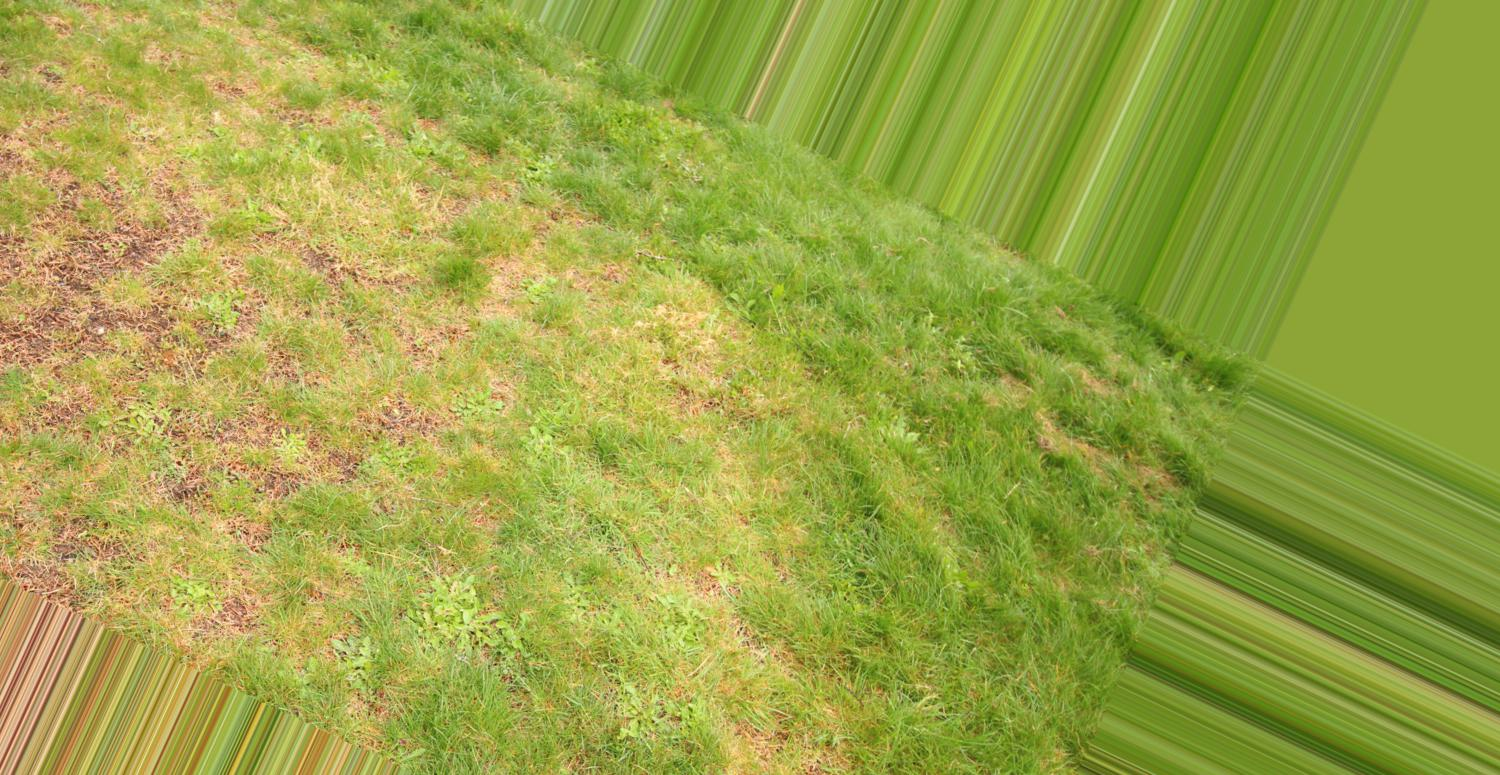patch: (120, 253, 316, 502), (318, 266, 490, 479), (105, 515, 421, 617), (83, 109, 253, 237), (6, 218, 82, 420), (127, 7, 282, 97), (667, 313, 747, 394), (511, 246, 580, 302), (411, 177, 482, 226)
